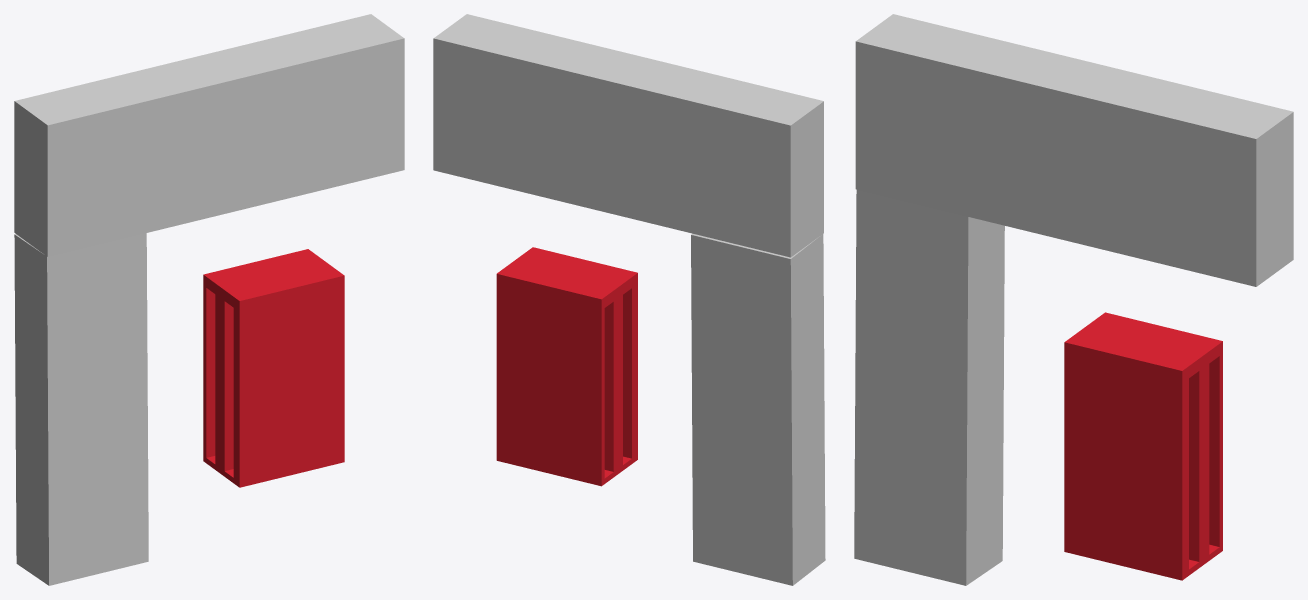
File: tinker.obj
3 views of the same model, side by side, from view 1: azimuth 30°, elevation 25°; view 2: azimuth 150°, elevation 25°; view 3: azimuth 330°, elevation 25° (orthographic). The views are drawn at different scales.
Parts seen in each view (by area): view 1: group_0_16448250, group_0_15277357; view 2: group_0_16448250, group_0_15277357; view 3: group_0_16448250, group_0_15277357.
Boxes of the visible parts, box(x1,y1,x2,y2) form: group_0_16448250: box(14, 14, 404, 585); group_0_15277357: box(203, 249, 344, 487); group_0_16448250: box(433, 14, 825, 585); group_0_15277357: box(496, 247, 637, 486); group_0_16448250: box(854, 14, 1293, 585); group_0_15277357: box(1064, 312, 1222, 580).
Bounding box in the file's own units: 68 × 84 × 12.
